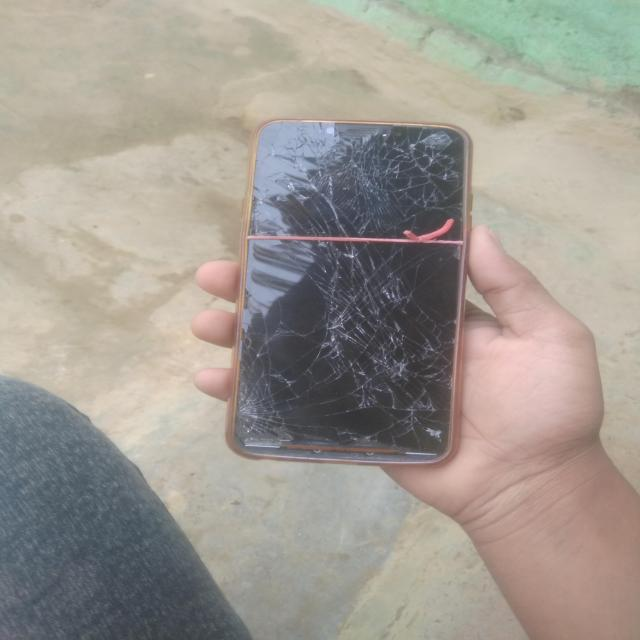mobile: (117, 81, 546, 514)
